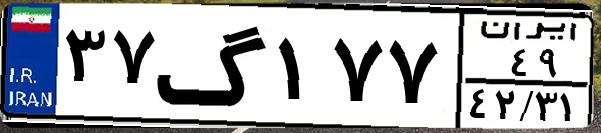1: (270, 28, 330, 110), (560, 70, 590, 125)
2: (495, 70, 520, 125)
3: (57, 26, 110, 100), (535, 70, 560, 125)
4: (508, 27, 537, 80), (470, 70, 495, 125)
7: (385, 28, 445, 110), (330, 28, 385, 110), (110, 28, 156, 98)
9: (537, 27, 568, 80)
گ: (156, 12, 270, 120)
